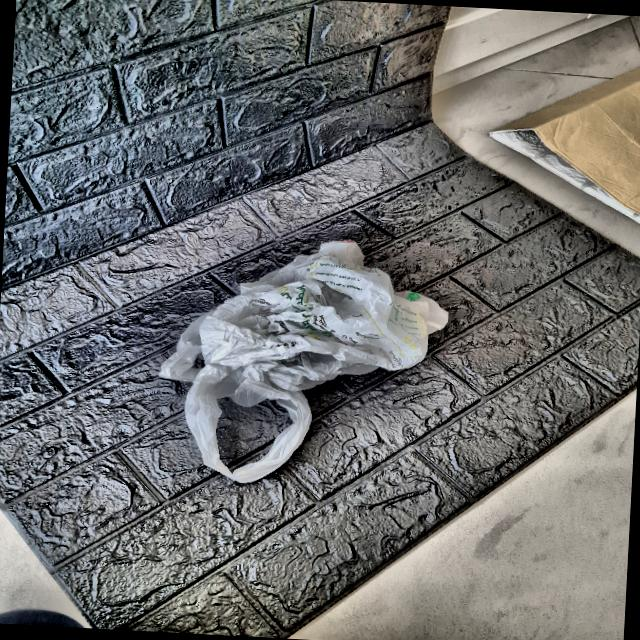plastic bag: (156, 230, 454, 491)
